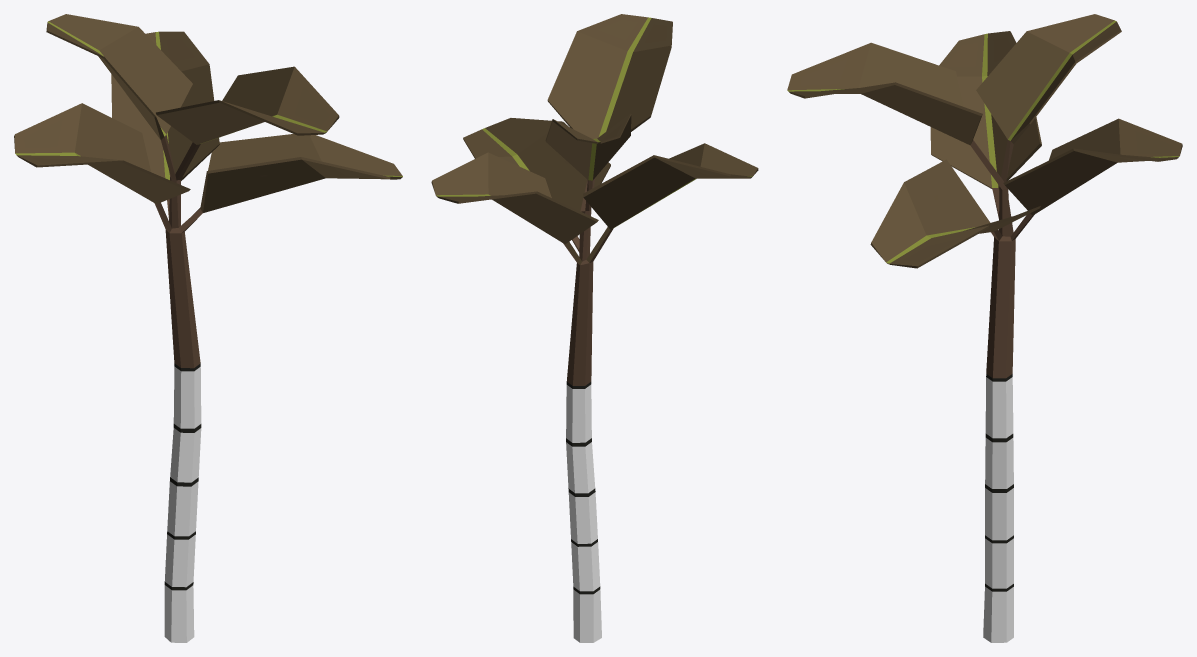
Rendered from ArecaPalm.fbx.
The picture shows the model from 3 angles, left to right: view 1: azimuth 30°, elevation 25°; view 2: azimuth 150°, elevation 25°; view 3: azimuth 270°, elevation 25°; orthographic projection. The views are drawn at different scales.
Visible parts, largest first — view 1: ArecaPalm; view 2: ArecaPalm; view 3: ArecaPalm.
Boxes of the visible parts, x1=… form: ArecaPalm: x1=14, y1=14, x2=402, y2=642; ArecaPalm: x1=431, y1=14, x2=758, y2=642; ArecaPalm: x1=787, y1=14, x2=1182, y2=642.
Size of the model in its own units: 95.89 by 158 by 96.91.
